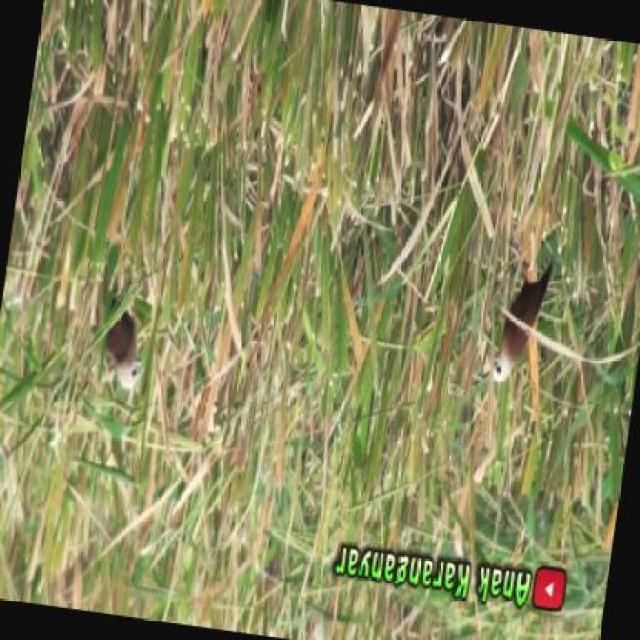Bird: (481, 254, 552, 405), (99, 312, 151, 397)
